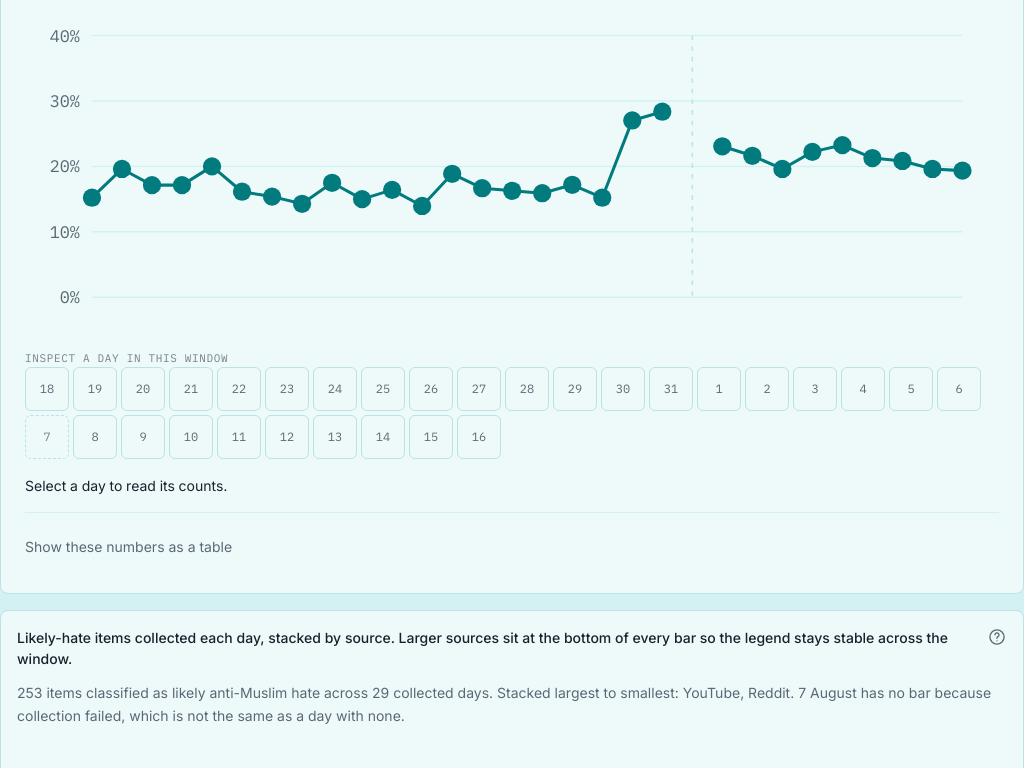
Test case: OverviewPage › refuses to state a rate for the uncollected day
This screenshot has width=1024, height=768.
(page scrolled)
Step 1. Click the button named "7 august, no collection" → {"x": 47, "y": 437}, box [25,415,69,459]
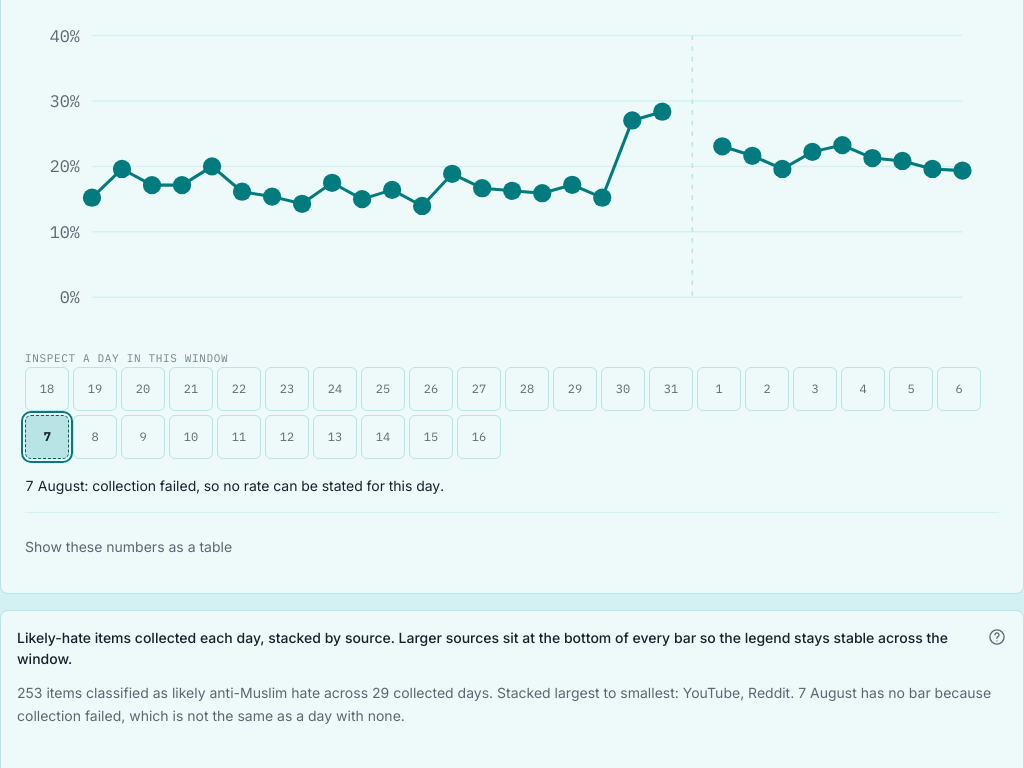
expect the text "collection failed, so no rate can be stated" is shown: met, box [25,477,444,494]
